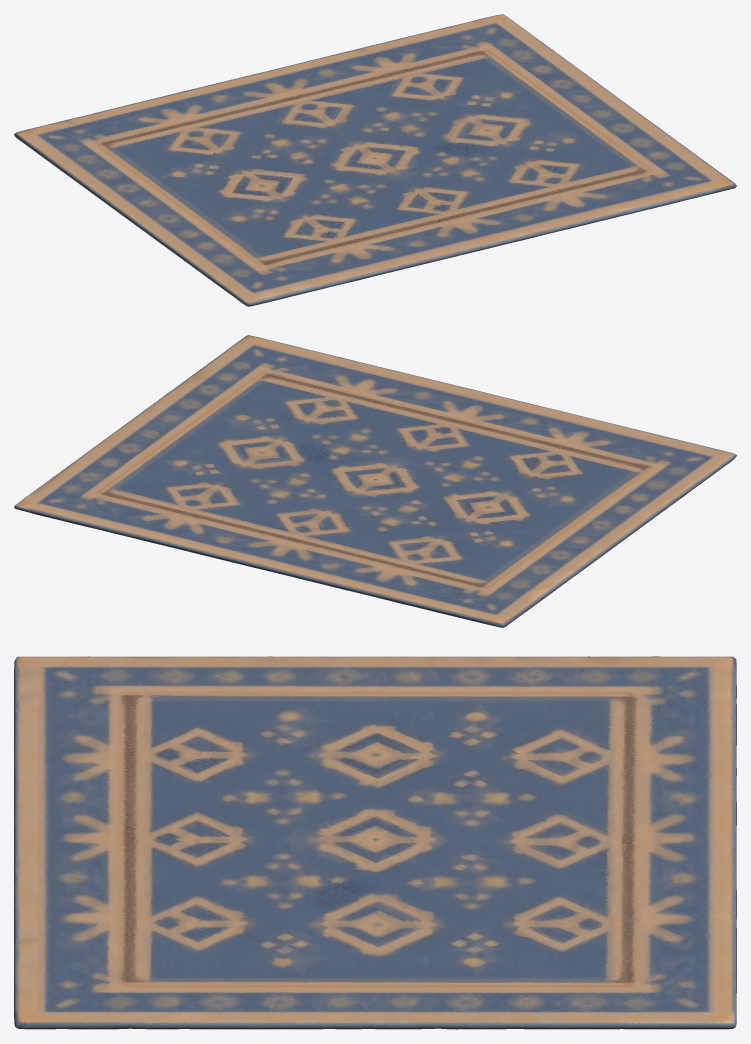
Rendered from Meshy_AI_Geometric_Elegance_0108005054_texture.fbx.
The picture shows the model from 3 angles, top to bottom: view 1: azimuth 30°, elevation 25°; view 2: azimuth 150°, elevation 25°; view 3: azimuth 270°, elevation 25°; orthographic projection. The views are drawn at different scales.
Visible parts, largest first — view 1: Mesh_0; view 2: Mesh_0; view 3: Mesh_0.
Boxes of the visible parts, x1,y1,x2,y2 form: Mesh_0: (14,14,736,306); Mesh_0: (14,335,736,627); Mesh_0: (14,656,736,1029).
Size of the model in its own units: 191 by 1.54 by 158.
1 material, 1 textured.
